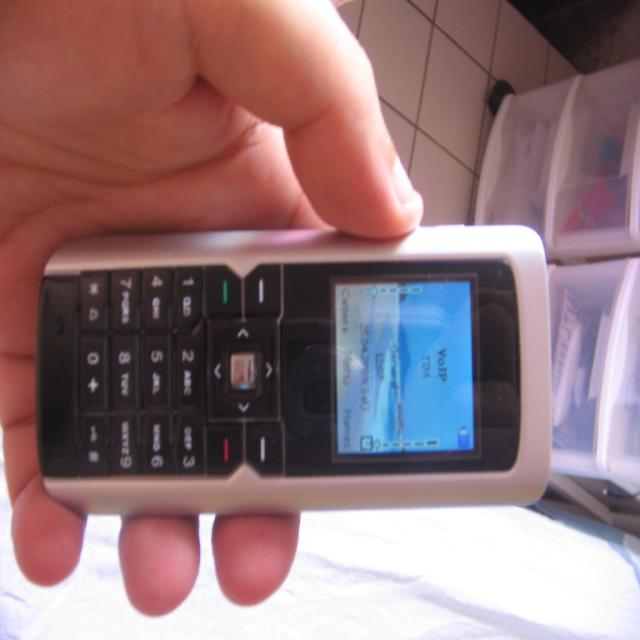Mobile-phone: (35, 224, 552, 519)
